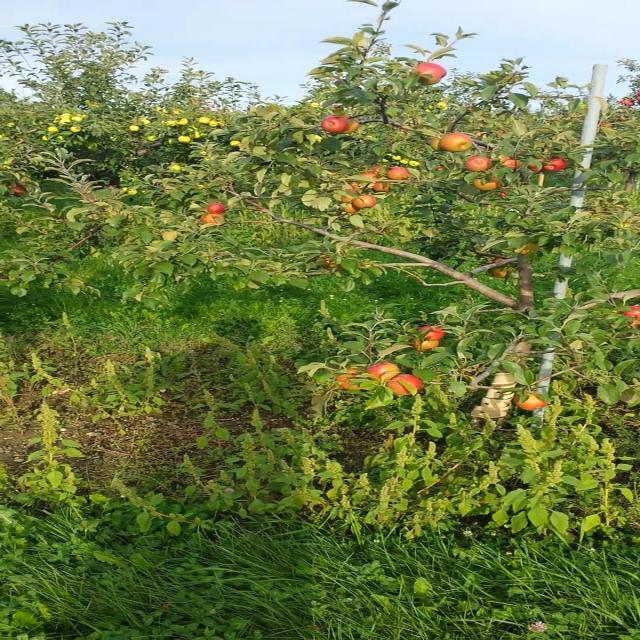apple: (382, 372, 423, 396), (364, 360, 402, 382), (413, 61, 447, 85), (440, 130, 476, 152), (512, 394, 550, 412), (334, 368, 361, 390), (319, 116, 350, 134), (463, 154, 493, 172), (407, 336, 440, 352), (416, 325, 446, 341), (354, 193, 378, 210), (619, 305, 639, 325), (541, 158, 568, 172), (384, 166, 410, 180), (361, 165, 385, 179), (471, 178, 499, 190), (198, 213, 225, 225), (340, 118, 359, 134), (316, 254, 337, 268), (202, 201, 225, 213), (527, 158, 546, 172), (370, 180, 391, 192), (6, 184, 26, 196), (488, 266, 507, 278), (502, 158, 523, 168), (344, 183, 364, 193), (428, 138, 442, 152), (495, 154, 511, 166), (337, 194, 355, 204), (340, 204, 360, 212)
